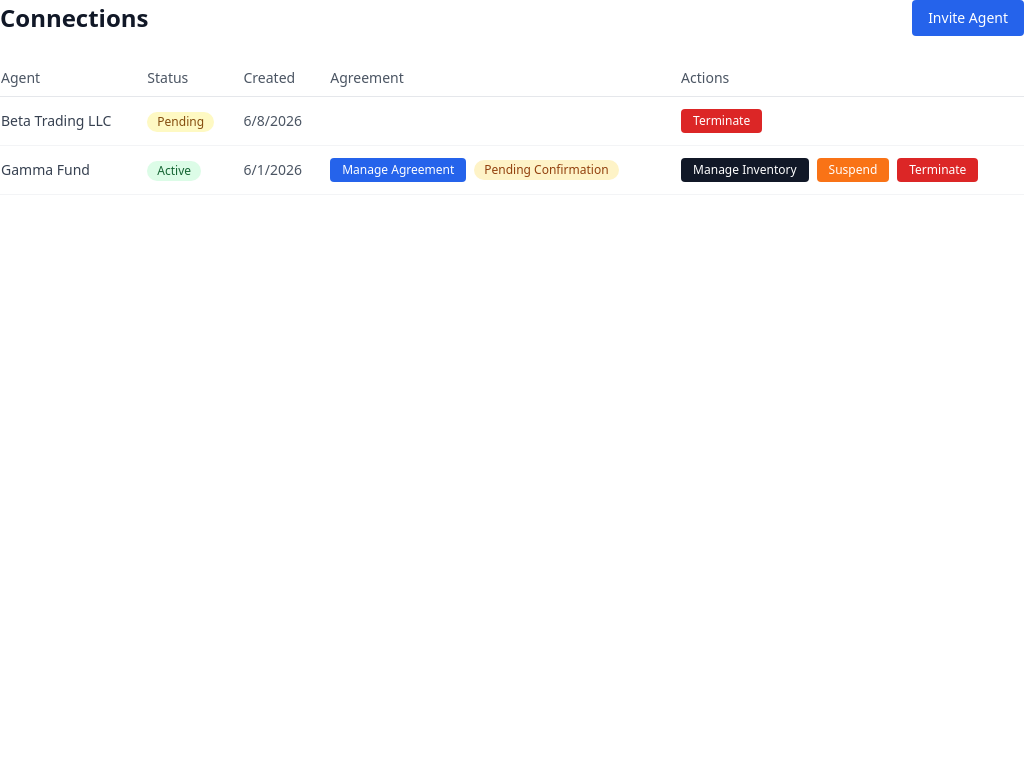
it: SupplierConnectionsPage › shows validation error when invite submitted with no value
Expected: the text "pending" is shown, [147,112,214,132]
Click the button "Invite Agent" at (968, 18), box [912,0,1023,36]
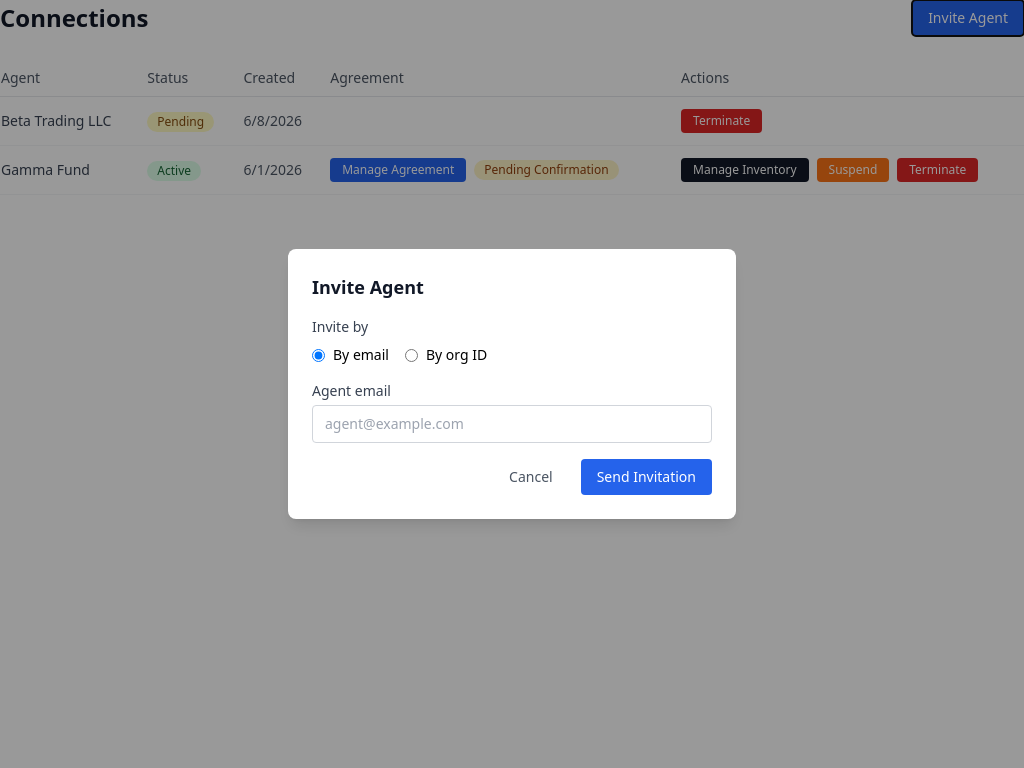
Click the button "Send Invitation" at (646, 477), box [581,459,712,495]
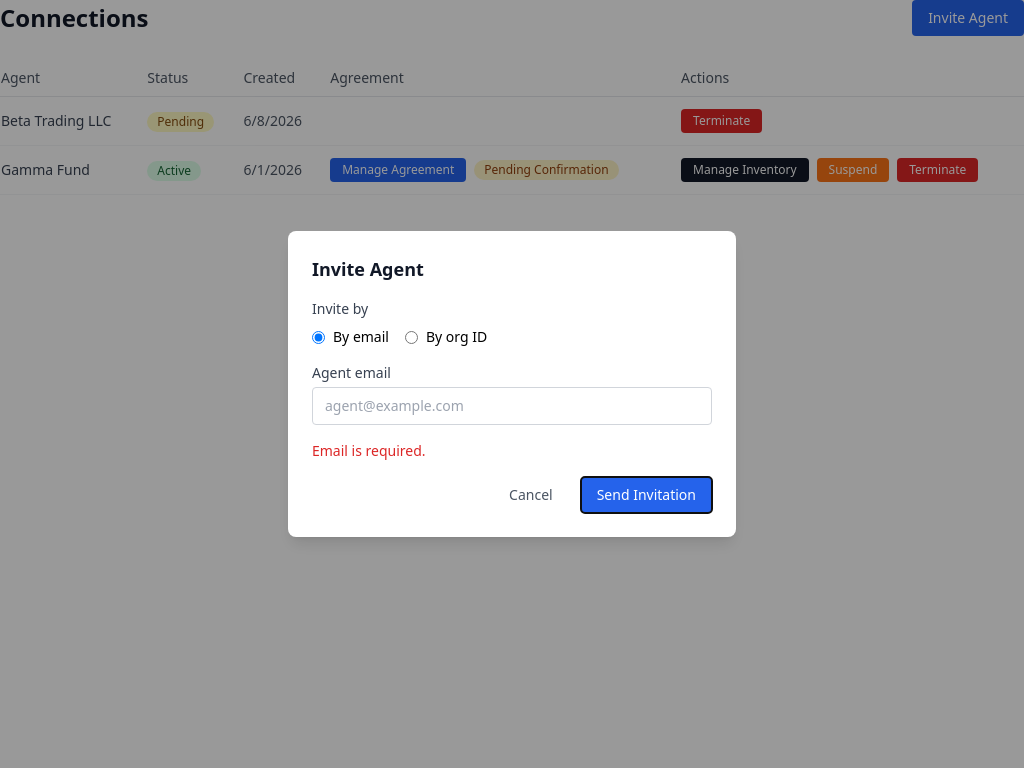
Expected: the message shows "required", [312,441,426,460]
